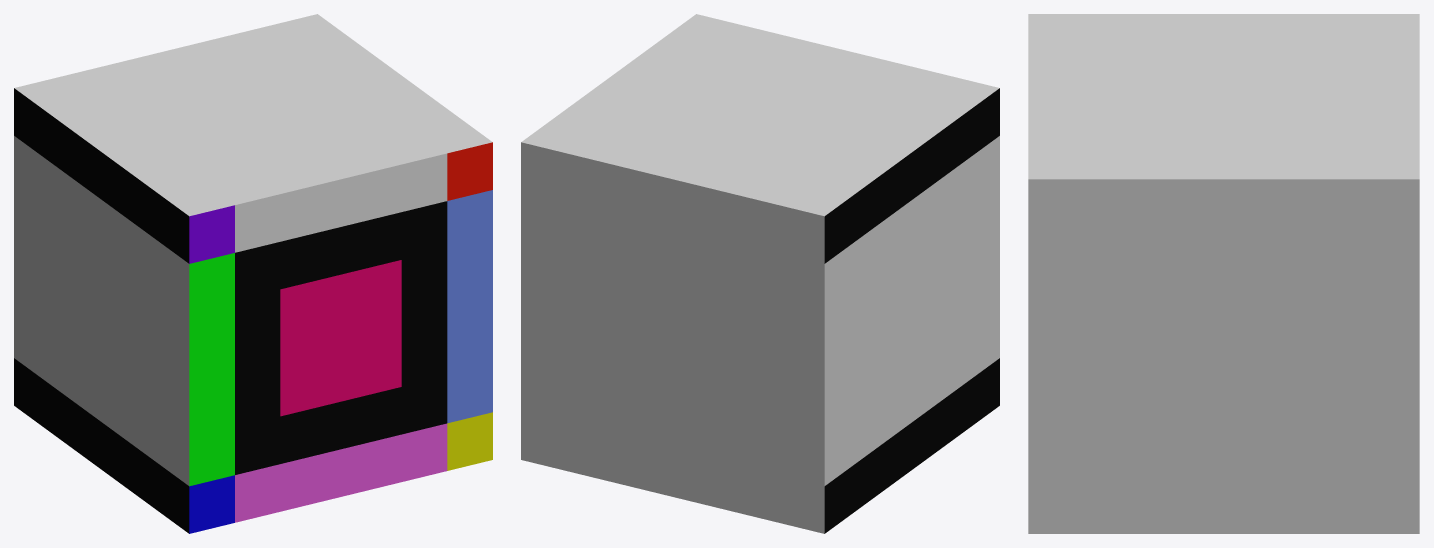
File: Platform_New.fbx
The picture shows the model from 3 angles, left to right: view 1: azimuth 30°, elevation 25°; view 2: azimuth 150°, elevation 25°; view 3: azimuth 270°, elevation 25°; orthographic projection. The views are drawn at different scales.
Parts seen in each view (by area): view 1: Cube; view 2: Cube; view 3: Cube.
Boxes of the visible parts, x1=… form: Cube: x1=14, y1=14, x2=492, y2=533; Cube: x1=521, y1=14, x2=999, y2=533; Cube: x1=1028, y1=14, x2=1419, y2=533.
Bounding box in the file's own units: 200 × 200 × 200.
